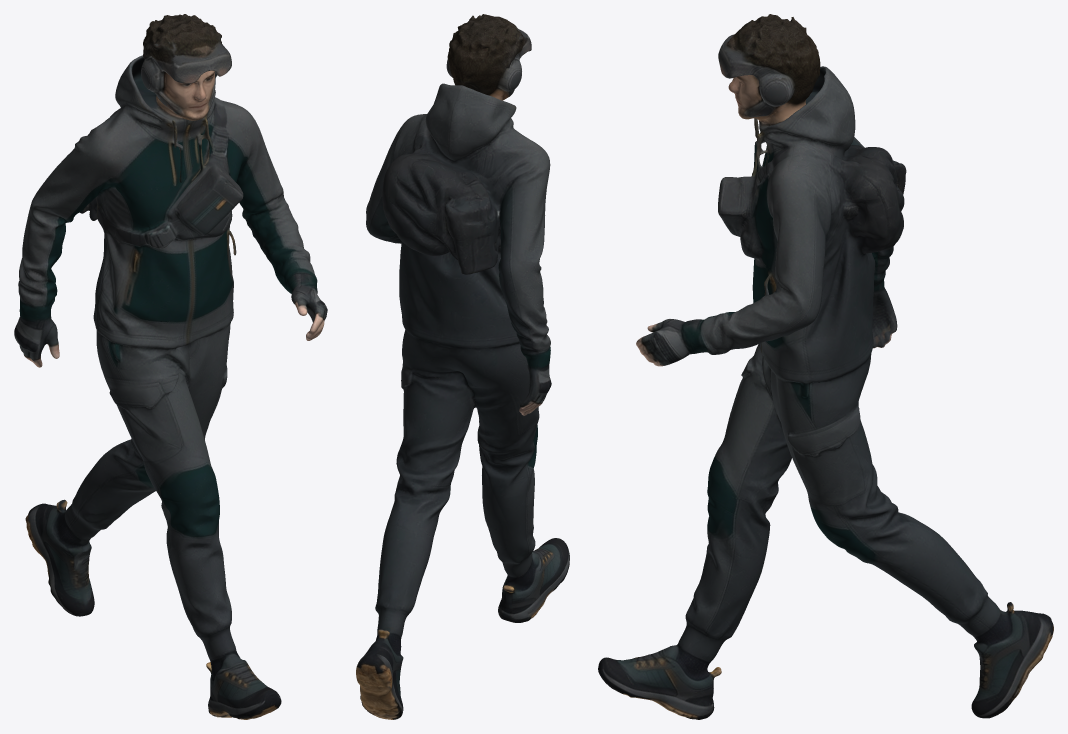
Rendered from Meshy_AI_Urban_Sentinel_1023084910_texture.glb.
The picture shows the model from 3 angles, left to right: view 1: azimuth 30°, elevation 25°; view 2: azimuth 150°, elevation 25°; view 3: azimuth 270°, elevation 25°; orthographic projection. The views are drawn at different scales.
Bounding box in the file's own units: 0.679 × 1.9 × 1.13.
Materials: 1 (1 with a texture image).
